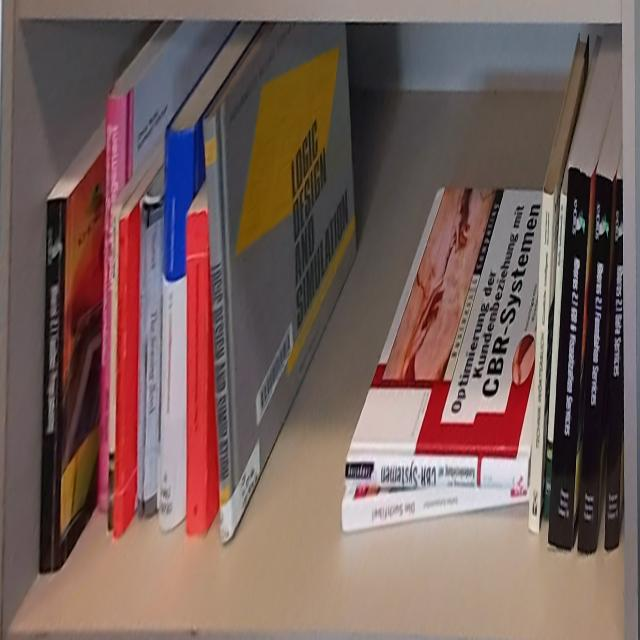Book Spine: (548, 168, 590, 553), (578, 173, 613, 556), (156, 124, 187, 532), (204, 113, 231, 545), (38, 196, 66, 574), (341, 483, 530, 531), (528, 188, 554, 535), (542, 191, 567, 520), (97, 92, 116, 513), (137, 192, 161, 518), (604, 180, 623, 553), (187, 208, 208, 537), (343, 459, 529, 492), (114, 219, 128, 542), (106, 206, 118, 535)
